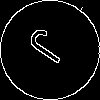J: (25, 25, 77, 72)
